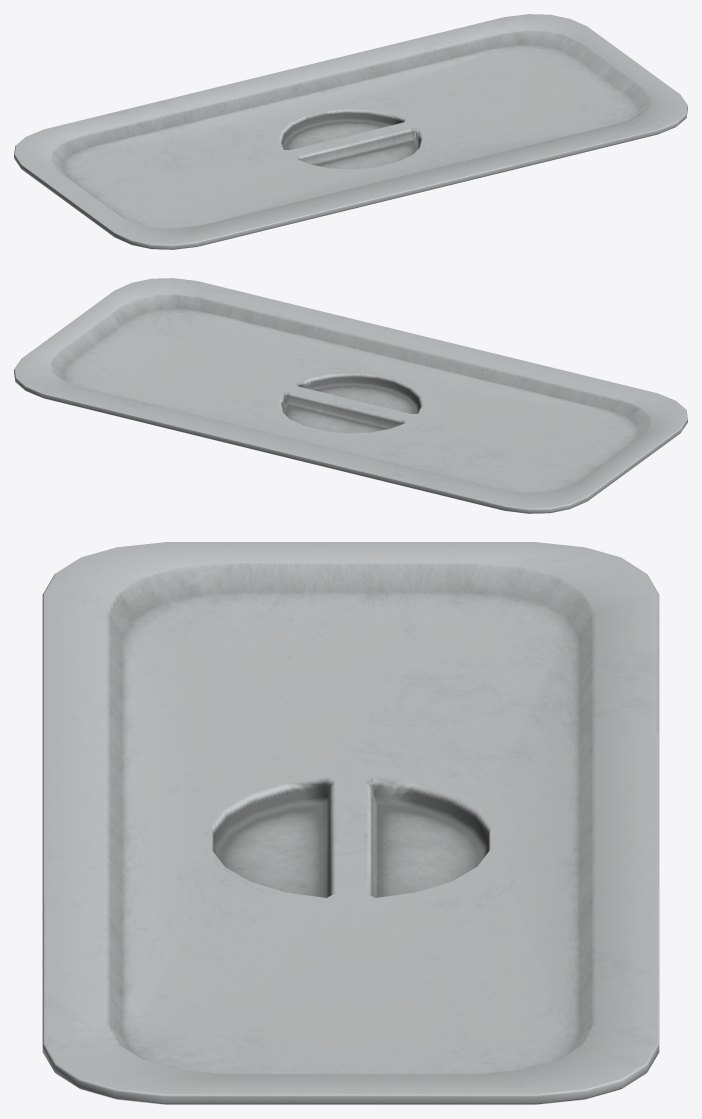
Rendered from Container_02_Lid.FBX.
3 views of the same model, one above another, from view 1: azimuth 30°, elevation 25°; view 2: azimuth 150°, elevation 25°; view 3: azimuth 270°, elevation 25° (orthographic). The views are drawn at different scales.
Parts seen in each view (by area): view 1: Container_02_Lid; view 2: Container_02_Lid; view 3: Container_02_Lid.
Boxes of the visible parts, x1,y1,x2,y2 form: Container_02_Lid: (14,14,687,249); Container_02_Lid: (14,278,687,513); Container_02_Lid: (42,542,659,1104).
Bounding box in the file's own units: 53.99 × 2.33 × 25.45.
1 material, 1 textured.
